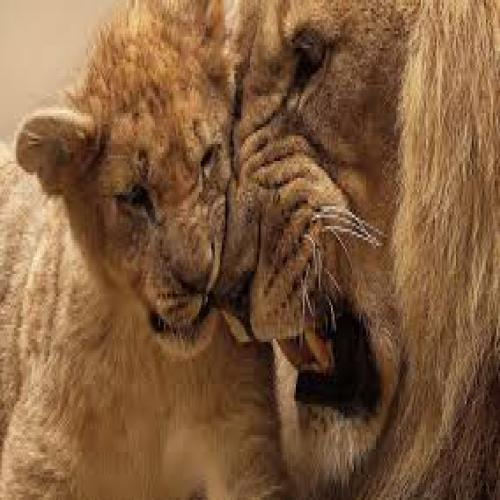lion-endangered: (220, 0, 500, 500), (4, 0, 276, 500)
